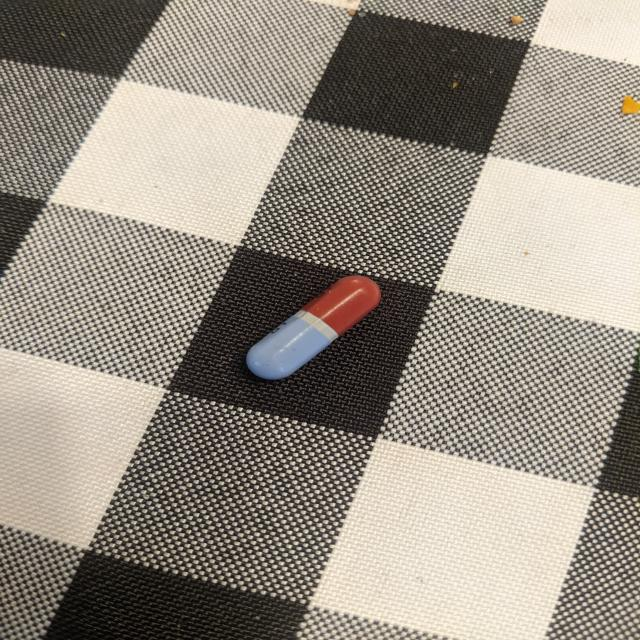non-organic waste: (244, 274, 383, 381)
